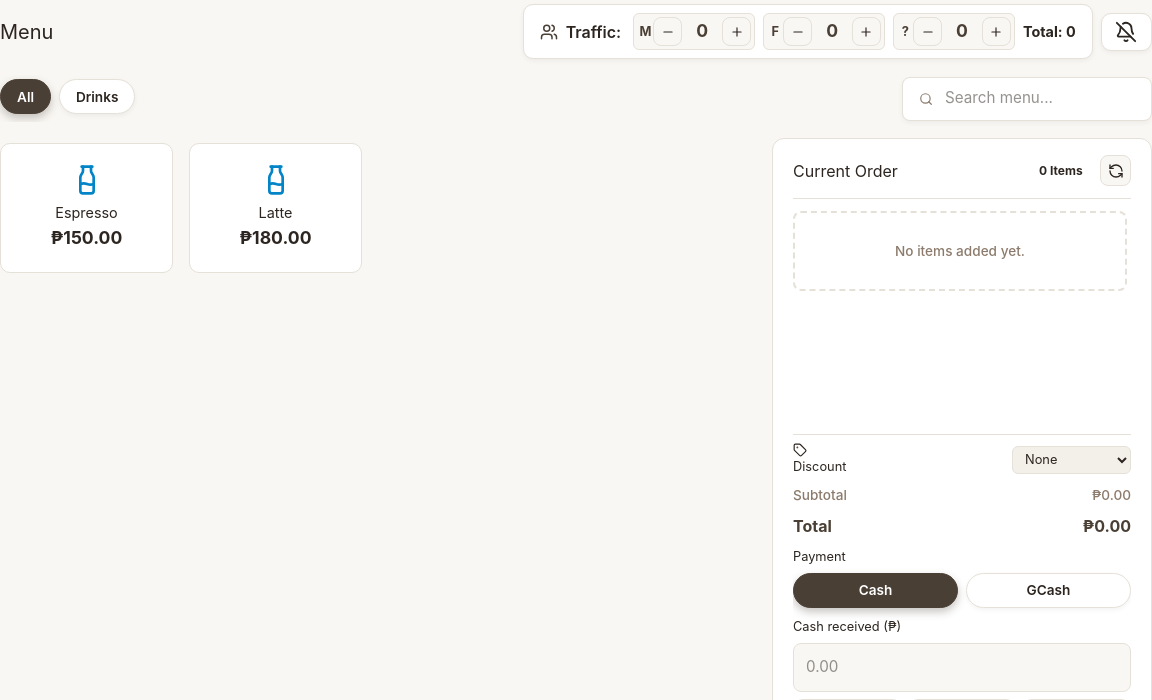
Test: MainPOS › should add special instructions via the cart note button
The width and height of the screenshot is (1152, 700).
Click the heading "Espresso".
click(87, 213)  # box [55, 204, 118, 221]
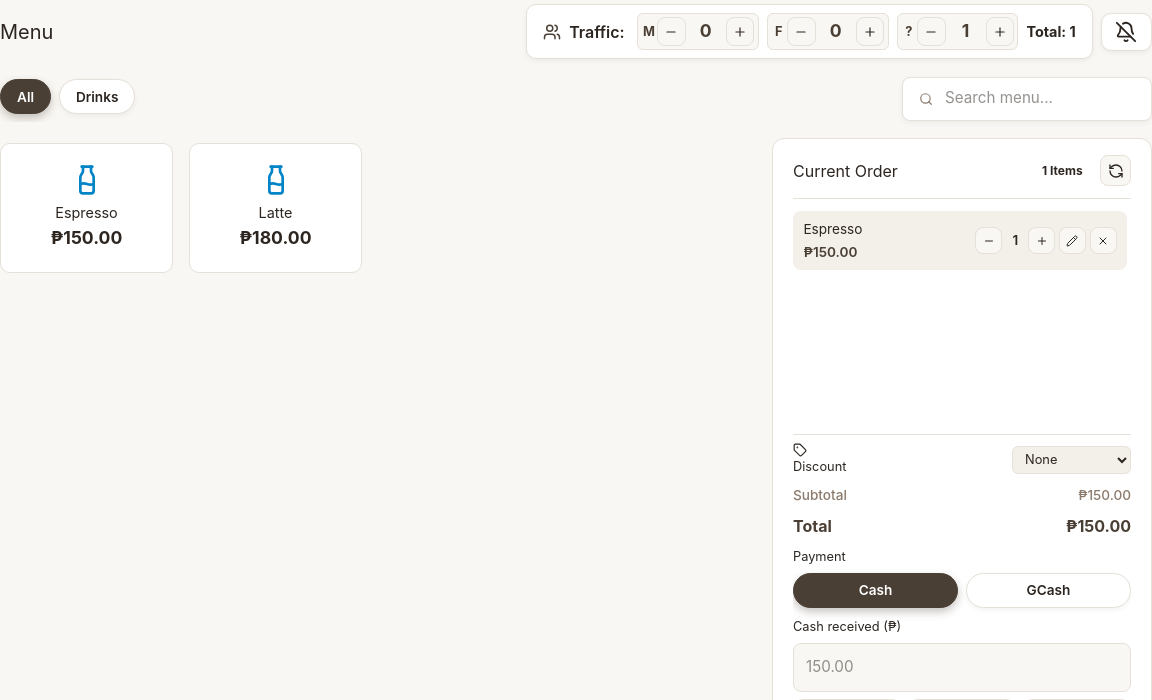
Click the button titled "Add special instructions".
click(1072, 241)  # box [1059, 227, 1086, 254]
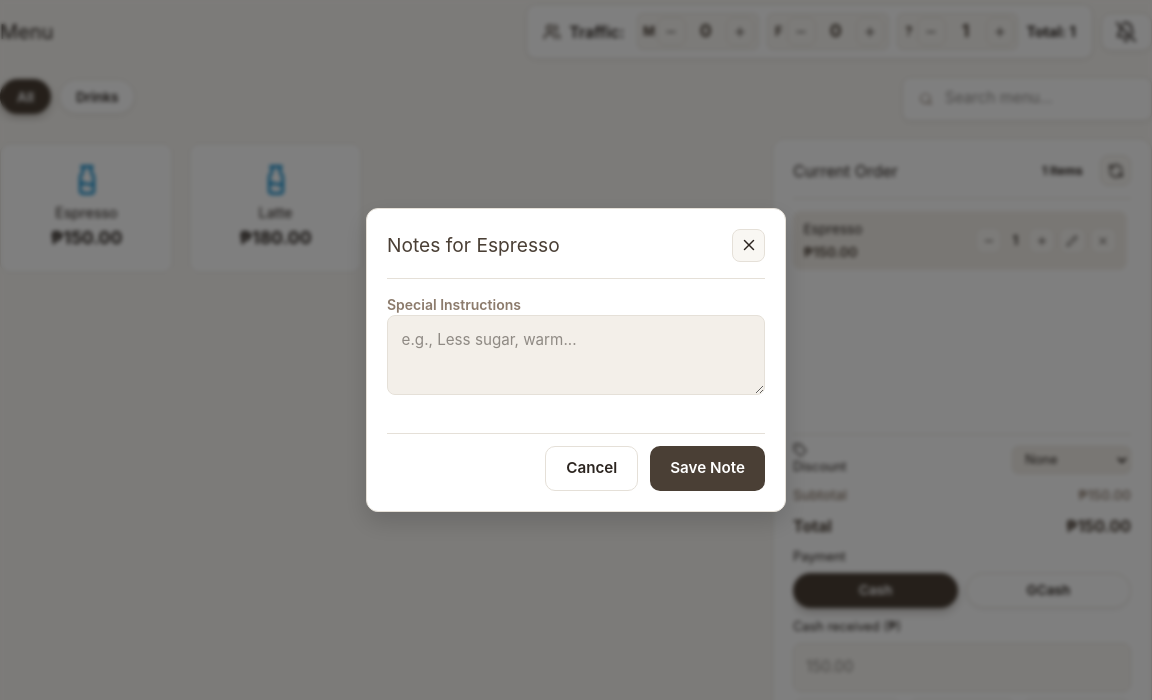
Check: the heading "Notes for Espresso" is shown, box [387, 231, 560, 260]
Type "Less sugar" into the text box with test id "note-textarea".
click(576, 355); type("Less sugar")  # box [387, 315, 765, 395]
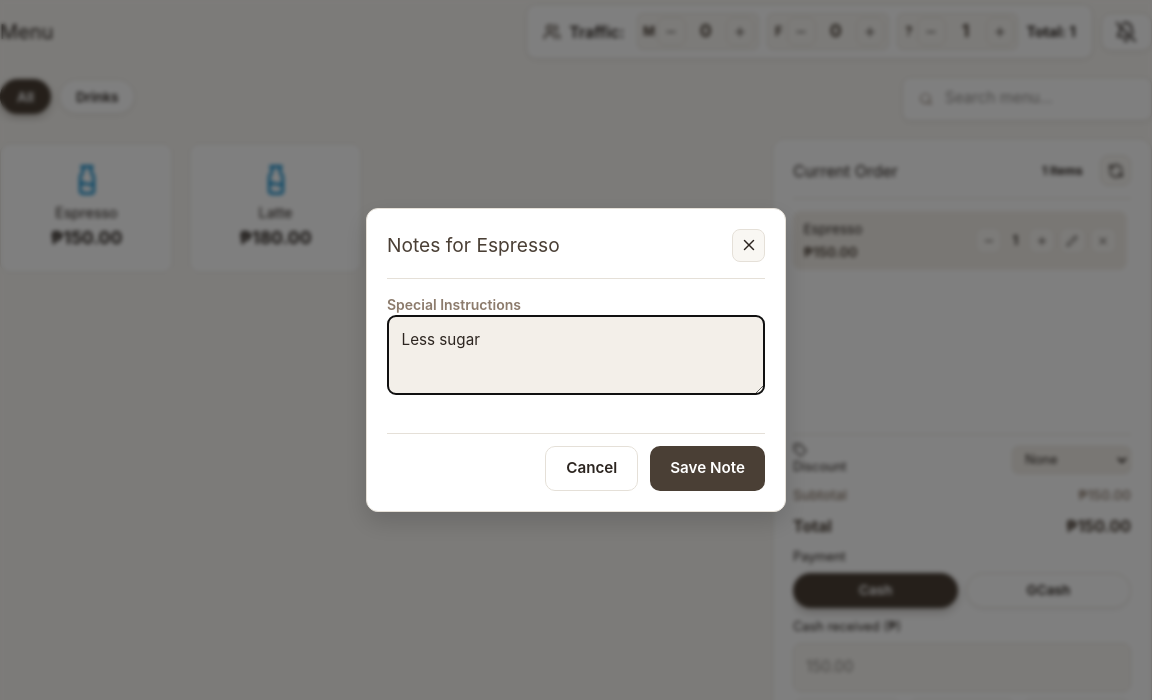
Click the button with test id "save-note-btn".
click(708, 468)  # box [650, 446, 765, 491]
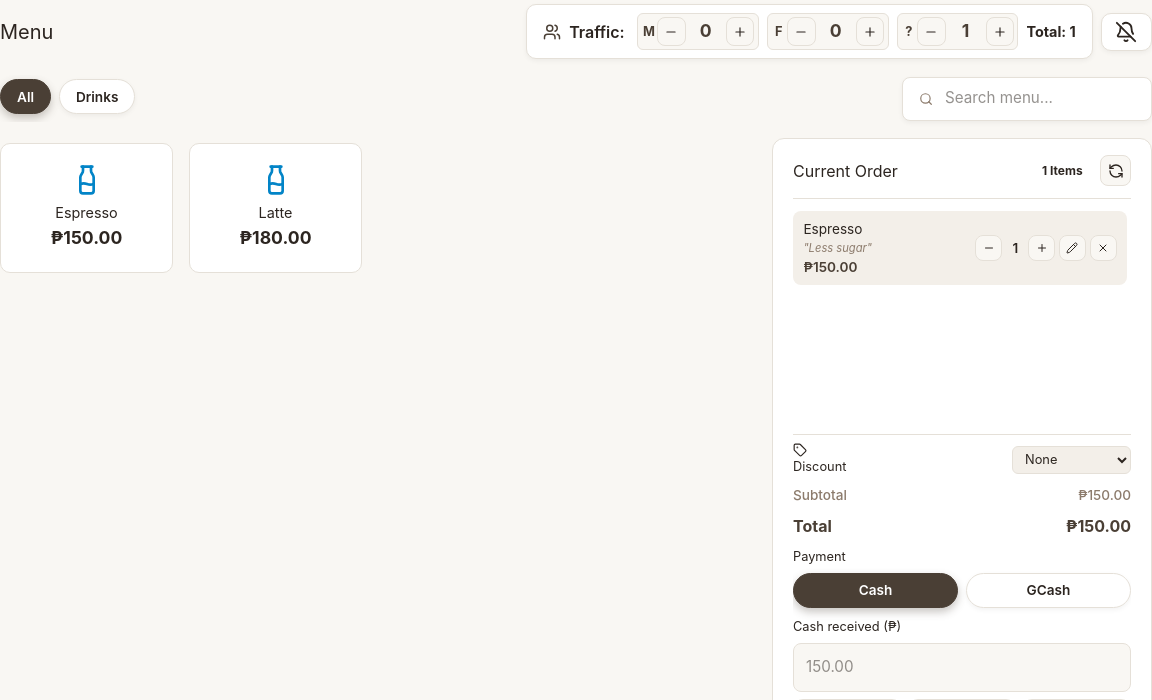
Check: the text "\"Less sugar\"" is shown, box [803, 241, 872, 255]
Check: the button titled "Edit special instructions" is shown, box [1059, 235, 1086, 262]
